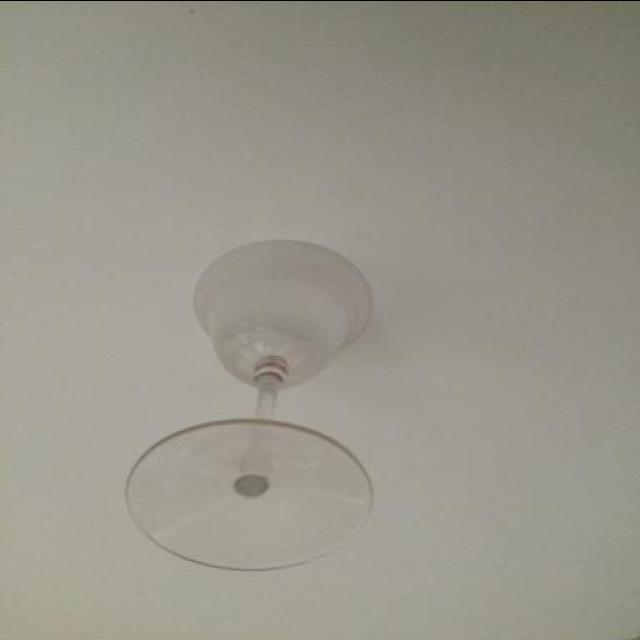glass: (110, 213, 403, 576)
